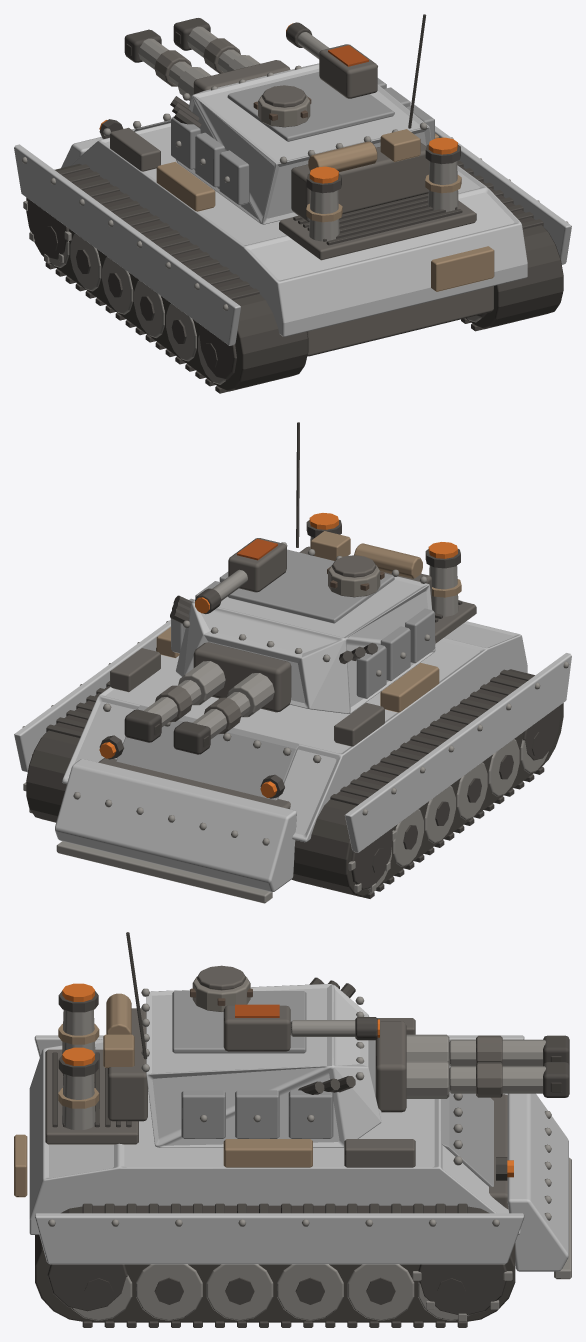
The model's file is crucible_heavy_assault.glb.
3 views of the same model, one above another, from view 1: azimuth 30°, elevation 25°; view 2: azimuth 150°, elevation 25°; view 3: azimuth 270°, elevation 25° (orthographic). The views are drawn at different scales.
Parts seen in each view (by area): view 1: Body, Turret; view 2: Body, Turret; view 3: Body, Turret.
Boxes of the visible parts, left/top/right/bottom form: Body: left=14, top=113, right=571, bottom=393; Turret: left=124, top=14, right=434, bottom=224; Body: left=14, top=513, right=571, bottom=903; Turret: left=124, top=422, right=435, bottom=754; Body: left=14, top=983, right=571, bottom=1327; Turret: left=103, top=932, right=569, bottom=1147.
Size of the model in its own units: 1.98 by 1.69 by 2.5.
